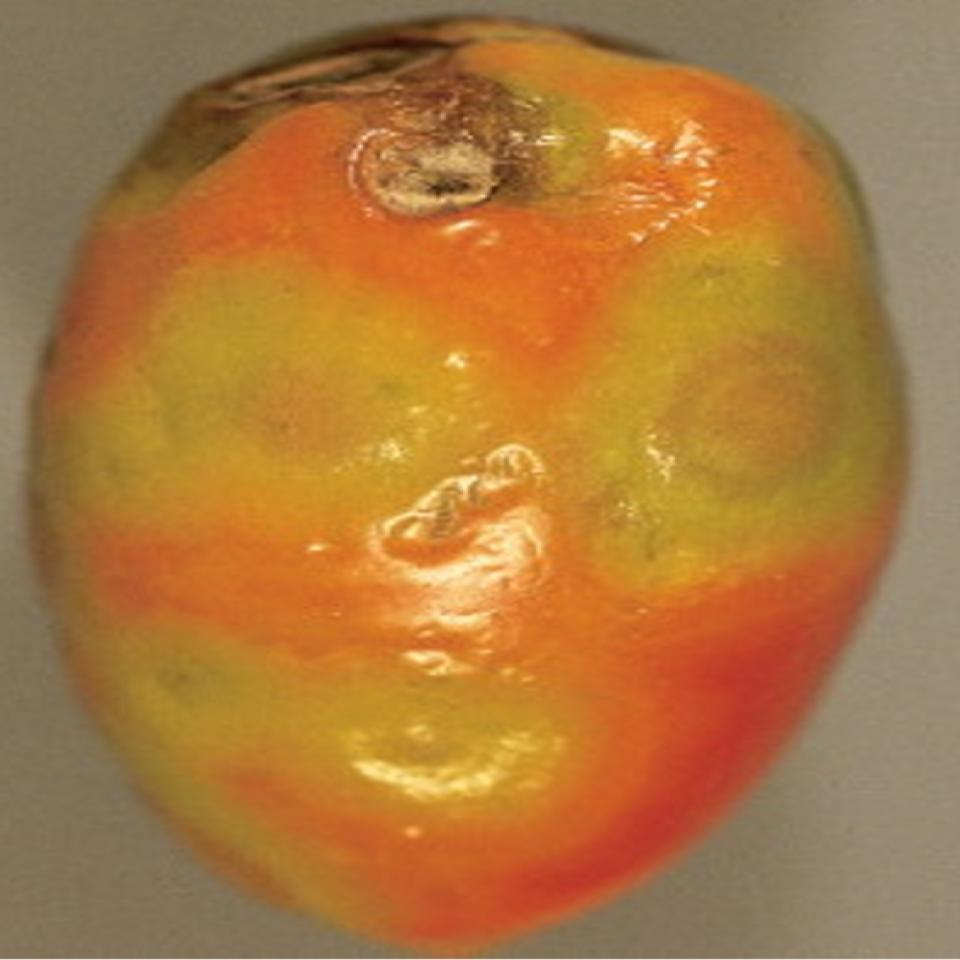Spotted wilt Virus: (37, 21, 906, 950)
